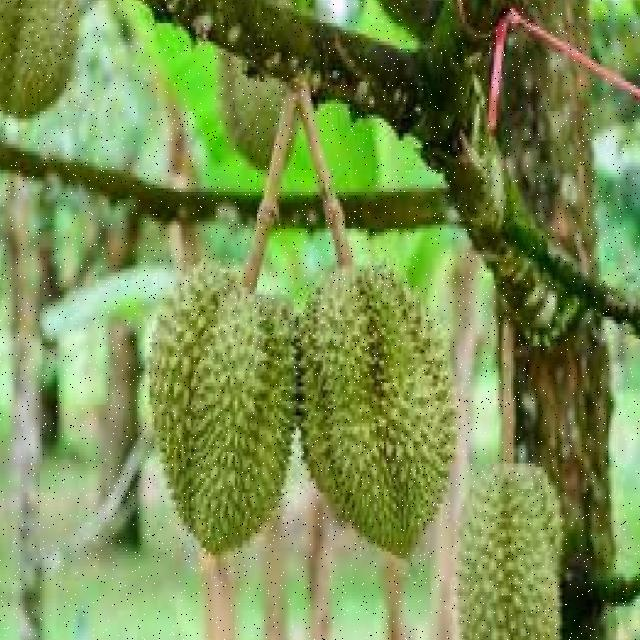UNRIPE: (142, 263, 303, 558), (301, 268, 457, 560)
